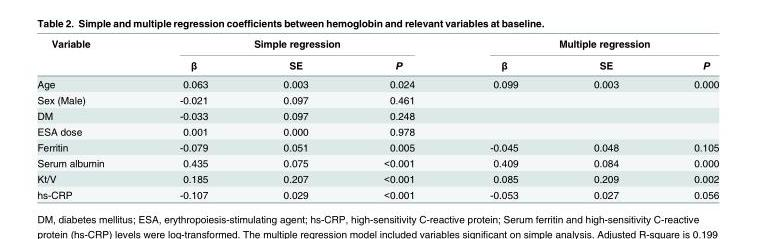table: (36, 37, 718, 200)
table column: (345, 37, 451, 200), (36, 37, 141, 200), (451, 37, 555, 200), (141, 37, 244, 200), (244, 37, 345, 200), (555, 37, 655, 200), (655, 37, 718, 200)
table column header: (36, 37, 718, 74)
table row: (36, 53, 718, 74), (36, 74, 718, 91), (36, 37, 718, 53), (36, 91, 718, 107), (36, 107, 718, 123), (36, 123, 718, 139), (36, 154, 718, 170), (36, 170, 718, 186), (36, 139, 718, 154), (36, 186, 718, 200)
table spanning cell: (141, 37, 451, 53), (451, 37, 718, 53), (36, 37, 141, 74)
